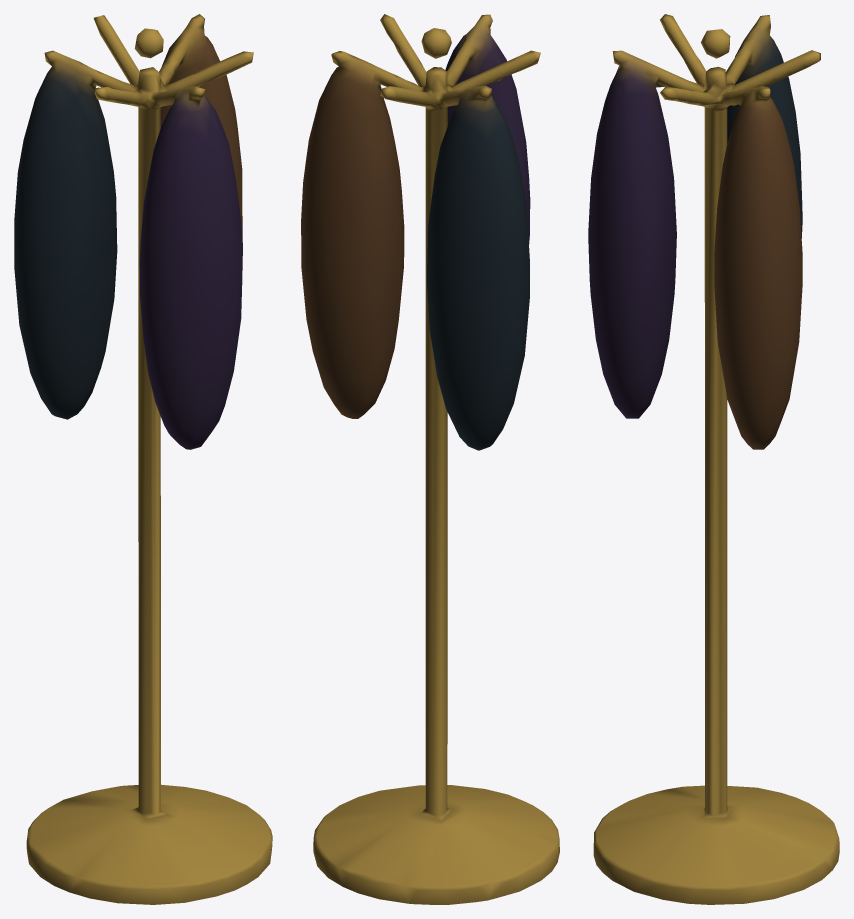
The model's file is lumiere-coat-rack.glb.
The picture shows the model from 3 angles, left to right: view 1: azimuth 30°, elevation 25°; view 2: azimuth 150°, elevation 25°; view 3: azimuth 270°, elevation 25°; orthographic projection.
Visible parts, largest first — view 1: lumiere-coat-rack_LOD0; view 2: lumiere-coat-rack_LOD0; view 3: lumiere-coat-rack_LOD0.
Boxes of the visible parts, <box> form: lumiere-coat-rack_LOD0: <box>14,14,272,904</box>; lumiere-coat-rack_LOD0: <box>301,14,559,904</box>; lumiere-coat-rack_LOD0: <box>588,14,839,904</box>.
Size of what is drawn, in the model's own units: 0.5126 by 1.84 by 0.5097.
